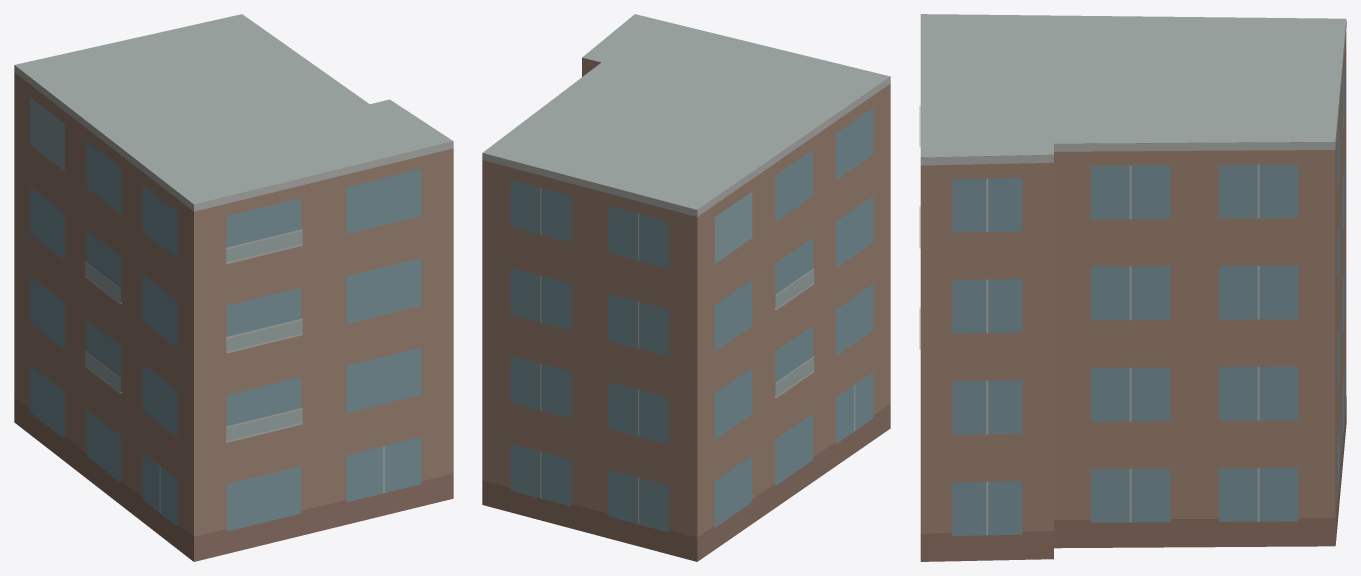
Rendered from survey-upis-32486890.glb.
The picture shows the model from 3 angles, left to right: view 1: azimuth 30°, elevation 25°; view 2: azimuth 150°, elevation 25°; view 3: azimuth 270°, elevation 25°; orthographic projection. The views are drawn at different scales.
Parts seen in each view (by area): view 1: survey-upis-32486890.tmp; view 2: survey-upis-32486890.tmp; view 3: survey-upis-32486890.tmp.
Part boxes in pixels (<box>): survey-upis-32486890.tmp: <box>14,14,453,561</box>; survey-upis-32486890.tmp: <box>482,14,890,561</box>; survey-upis-32486890.tmp: <box>919,14,1346,561</box>.
Bounding box in the file's own units: 9.29 × 12.2 × 11.68.
